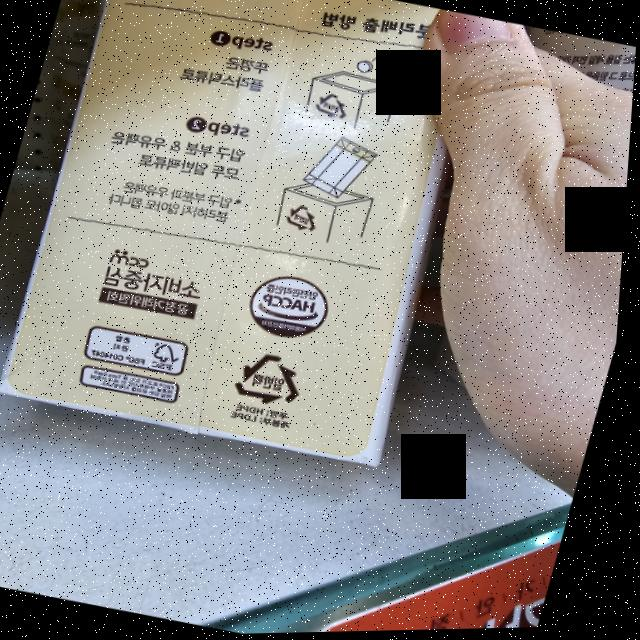NormalPack: (234, 346, 317, 415)
